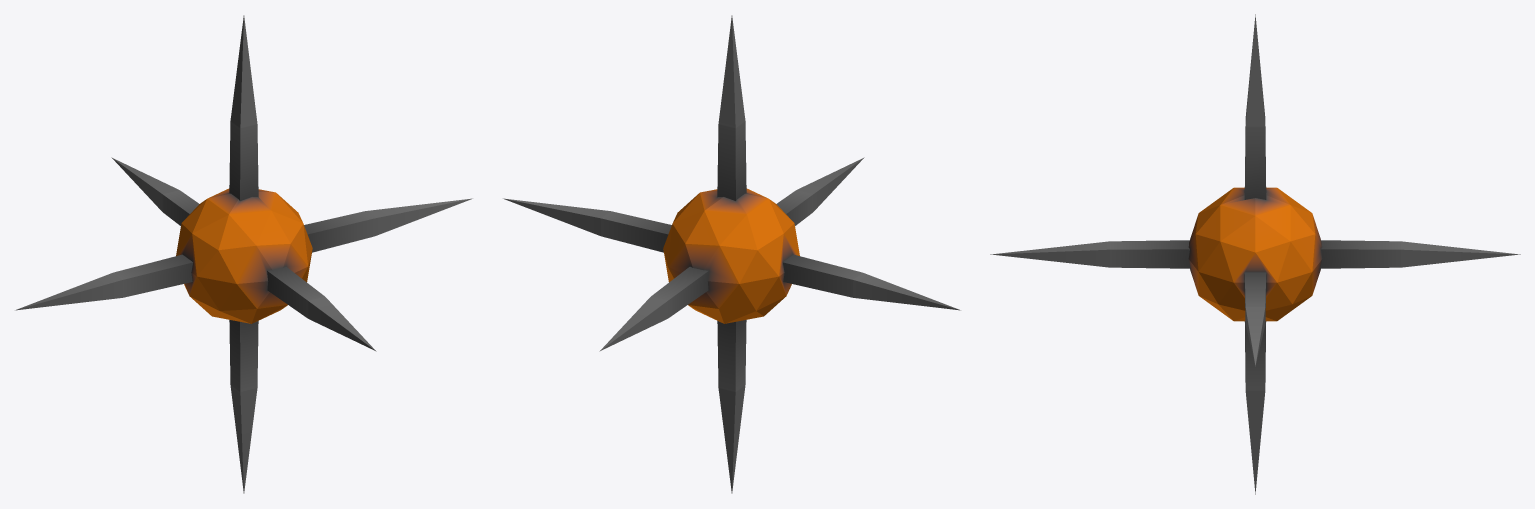
File: SelPoint.fbx
3 renders of one model, left to right at view 1: azimuth 30°, elevation 25°; view 2: azimuth 150°, elevation 25°; view 3: azimuth 270°, elevation 25°, orthographic.
Parts seen in each view (by area): view 1: Icosphere; view 2: Icosphere; view 3: Icosphere.
Boxes of the visible parts, x1,y1,x2,y2 form: Icosphere: (15, 15, 472, 493); Icosphere: (503, 15, 960, 493); Icosphere: (990, 14, 1520, 494).
Bounding box in the file's own units: 755 × 755 × 755.
